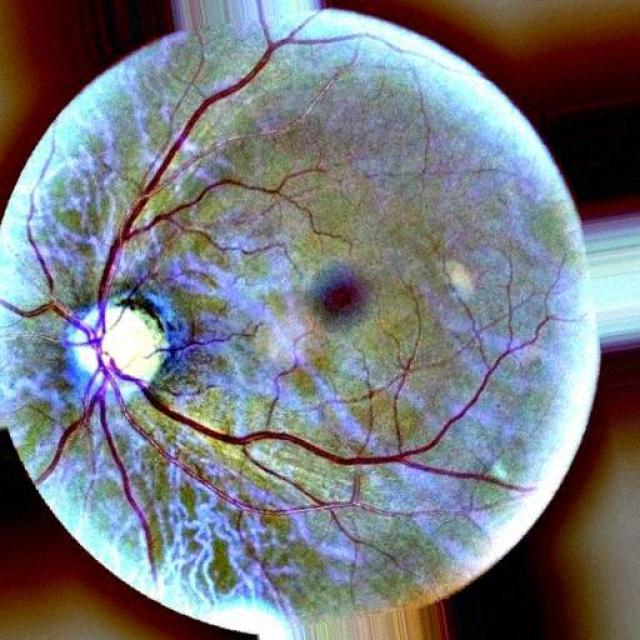Macula: (314, 276, 364, 321)
Nerves: (0, 20, 549, 560), (149, 331, 246, 358)
Optic Disk: (65, 300, 169, 392)
